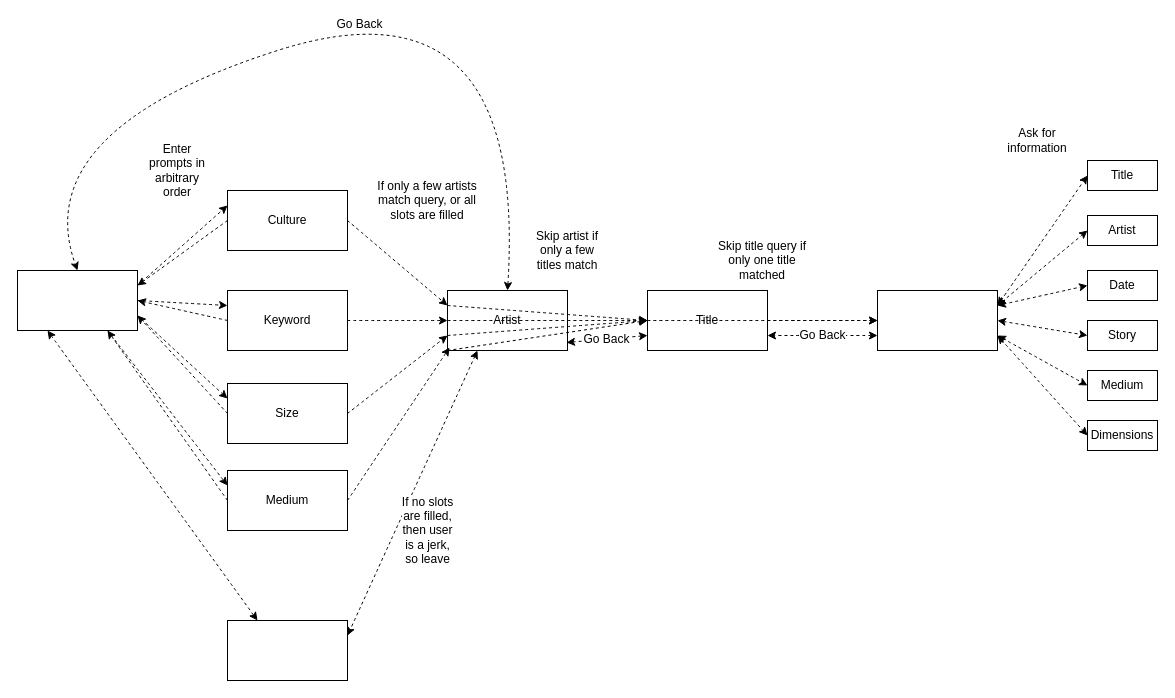
The diagram is 1175 pixels wide and 698 high, and some of its shapes have lost their labels. The centre of each missing label's shape, as x and y in pixels:
"Exit" belongs at (x=287, y=650).
"Explain" belongs at (x=937, y=320).
"Init" belongs at (x=77, y=300).
